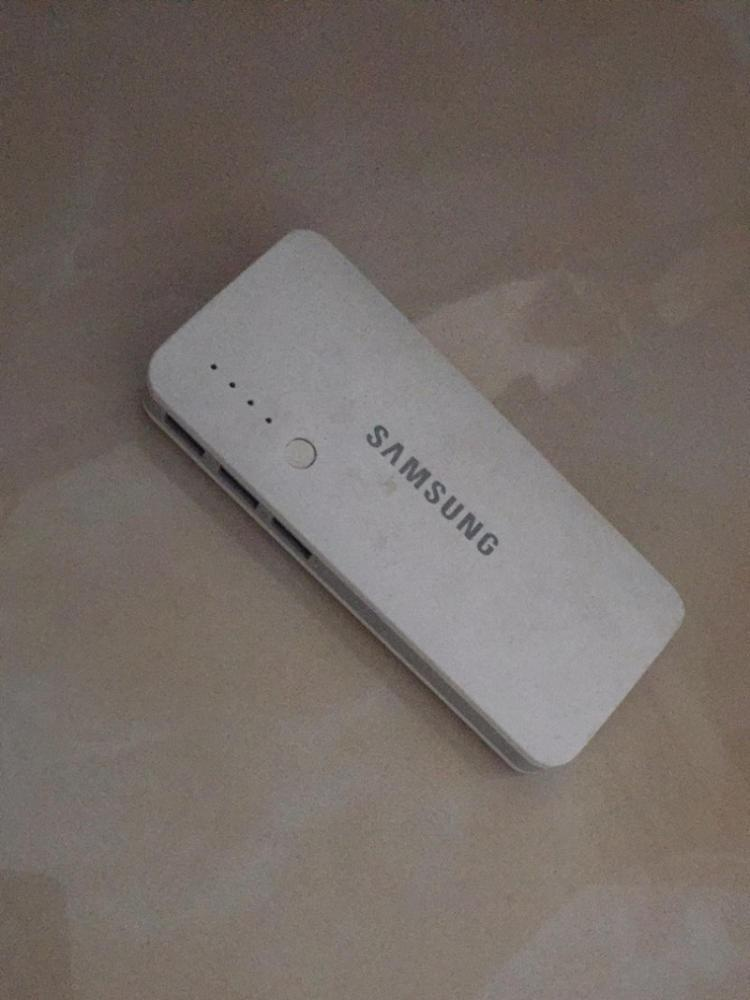power bank: (138, 222, 692, 780)
